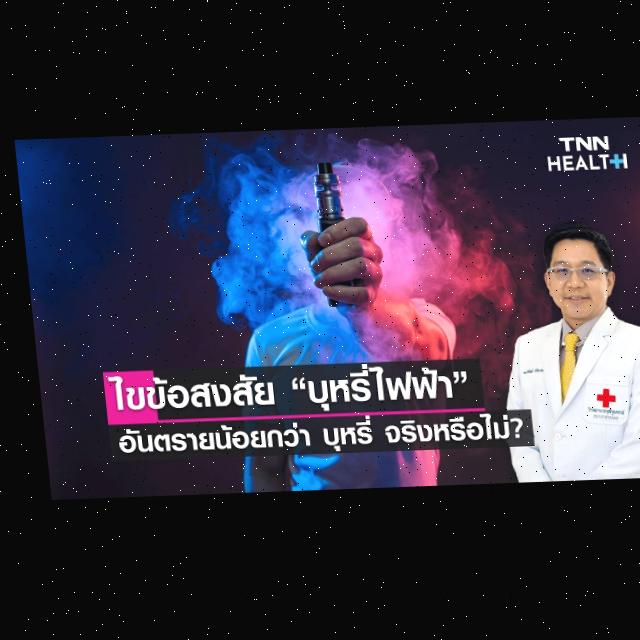vape: (309, 165, 347, 309)
